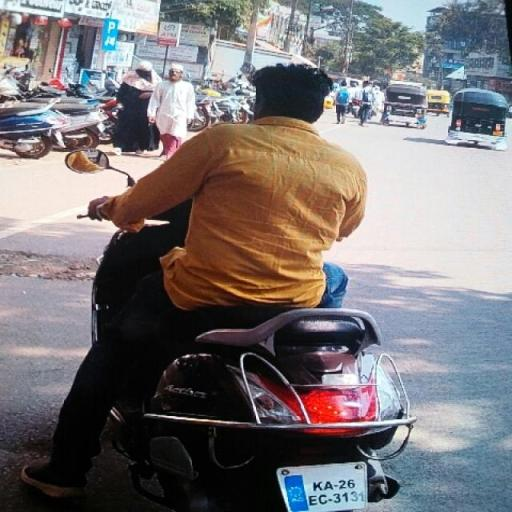bike: (44, 65, 426, 512)
numberplate: (280, 462, 372, 512)
withouthelmet: (252, 64, 328, 122)
